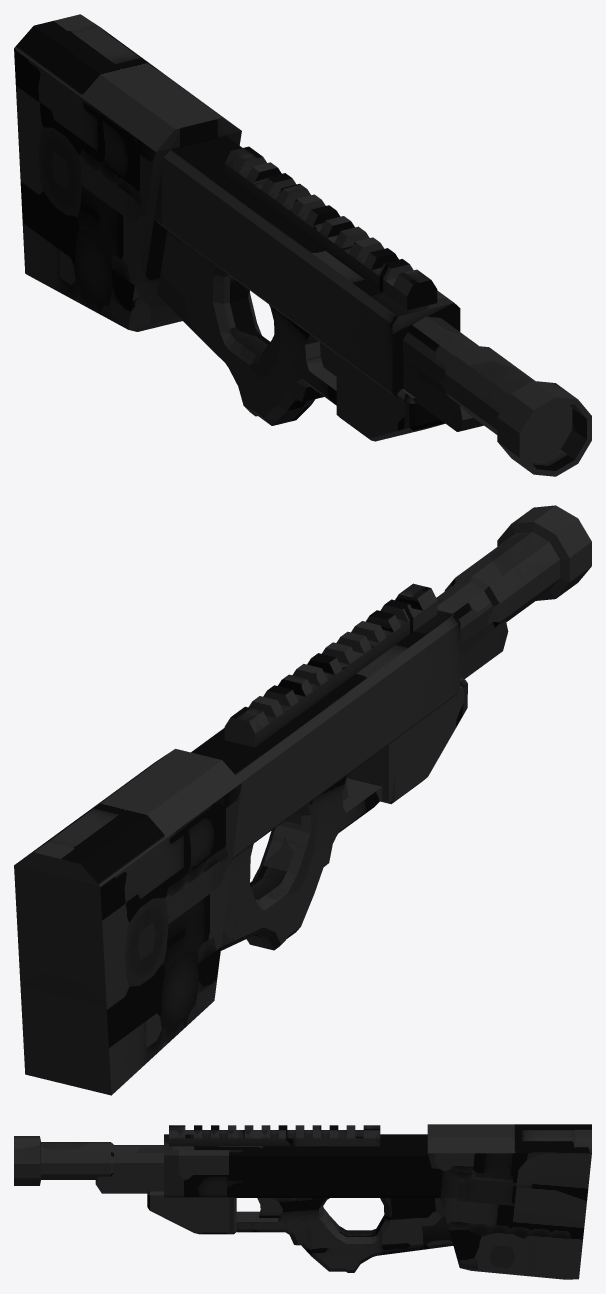
The model's file is easy-weapons-rail-gun.glb.
3 renders of one model, top to bottom at view 1: azimuth 30°, elevation 25°; view 2: azimuth 150°, elevation 25°; view 3: azimuth 270°, elevation 25°, orthographic. The views are drawn at different scales.
Visible parts, largest first — view 1: energy_gun; view 2: energy_gun; view 3: energy_gun.
Boxes of the visible parts, bbox=[...] form: energy_gun: bbox=[14, 14, 591, 476]; energy_gun: bbox=[14, 505, 591, 1095]; energy_gun: bbox=[14, 1124, 591, 1279].
Bounding box in the file's own units: 0.0579 × 0.1606 × 0.58.
Materials: 1 (1 with a texture image).
